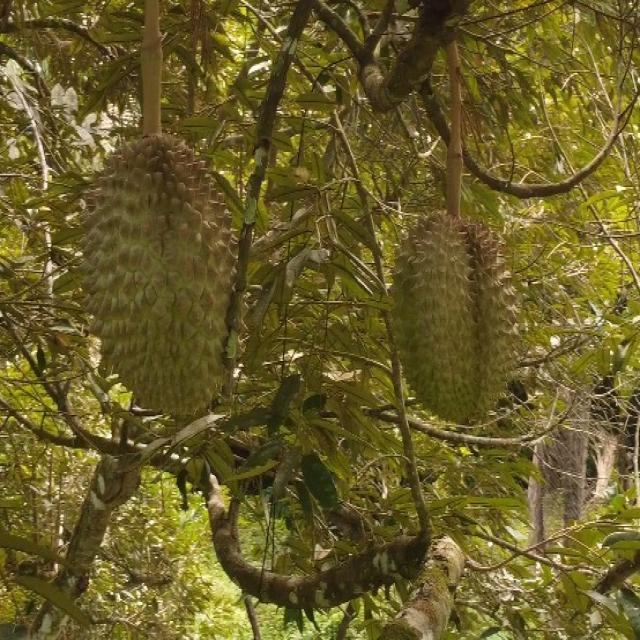mature: (81, 137, 246, 422), (391, 208, 524, 429)
